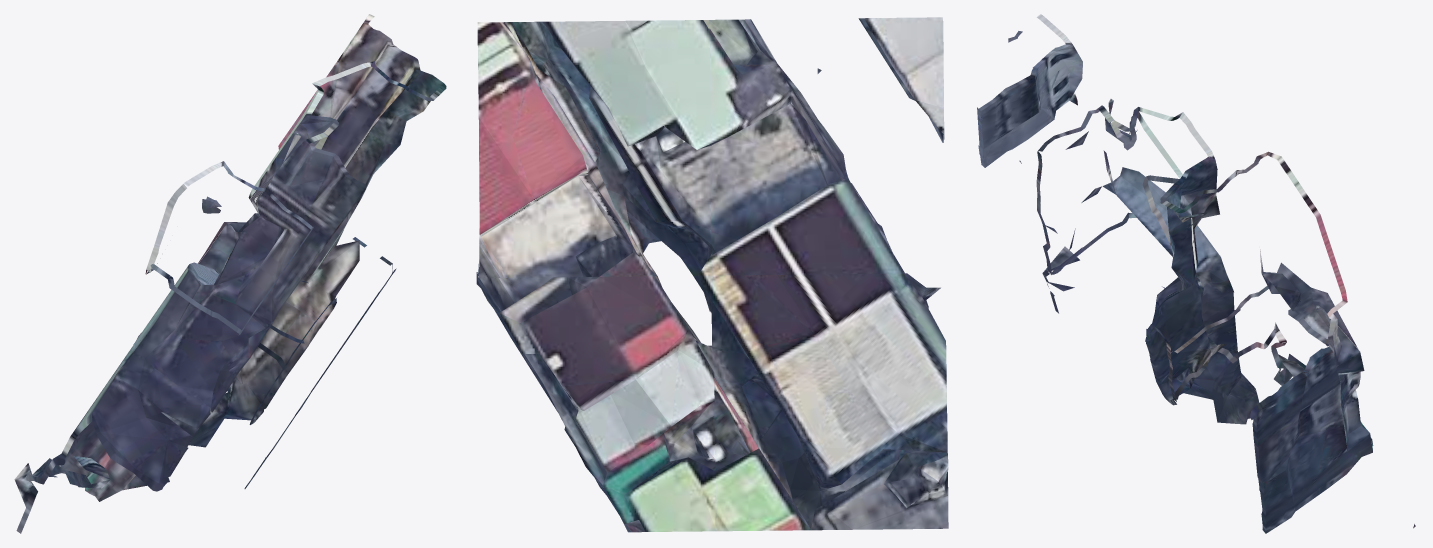
3 views of the same model, side by side, from view 1: azimuth 30°, elevation 25°; view 2: azimuth 150°, elevation 25°; view 3: azimuth 270°, elevation 25° (orthographic). The views are drawn at different scales.
Bounding box in the file's own units: 39.46 × 39.45 × 35.67.
2 materials, 2 textured.
